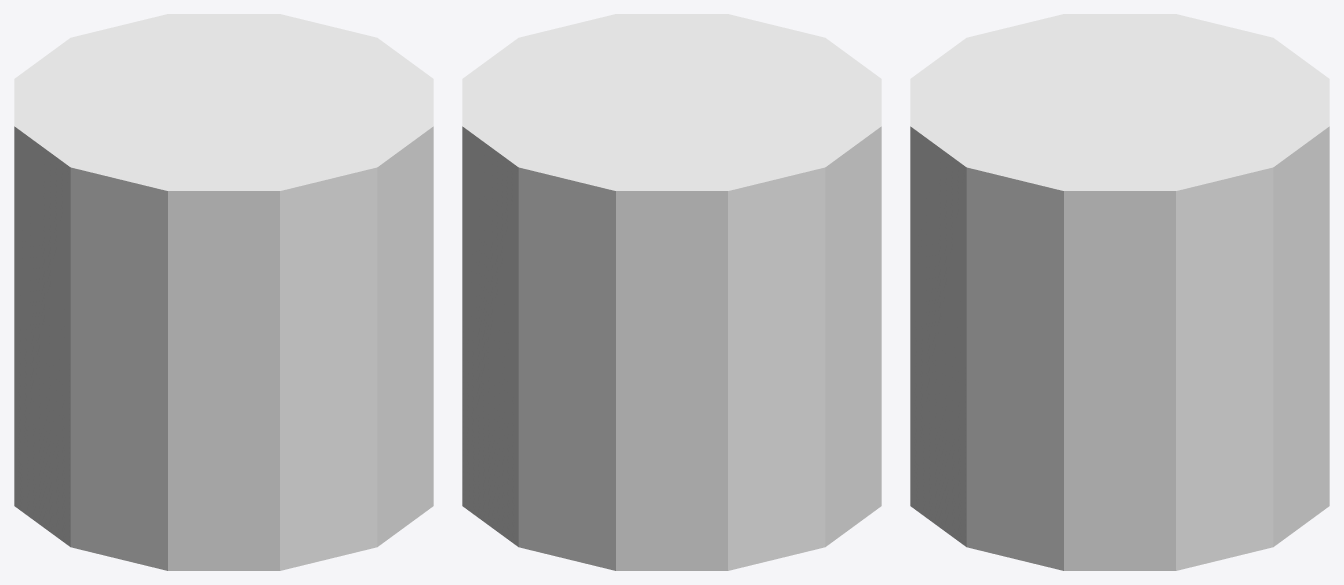
3 renders of one model, left to right at view 1: azimuth 30°, elevation 25°; view 2: azimuth 150°, elevation 25°; view 3: azimuth 270°, elevation 25°, orthographic.
Visible parts, largest first — view 1: cylinder; view 2: cylinder; view 3: cylinder.
Part boxes in pixels (bbox=[...]): cylinder: bbox=[14, 14, 433, 570]; cylinder: bbox=[462, 14, 881, 570]; cylinder: bbox=[910, 14, 1329, 570].
Bounding box in the file's own units: 100 × 100 × 100.
Materials: 1 (1 with a texture image).
